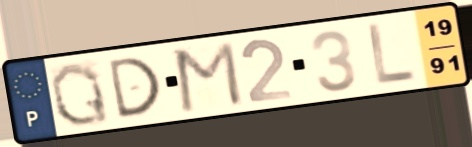2: (237, 36, 298, 105)
3: (309, 27, 358, 93)
D: (104, 54, 164, 122)
L: (365, 20, 418, 87)
M: (172, 38, 246, 115)
Q: (47, 59, 113, 128)
